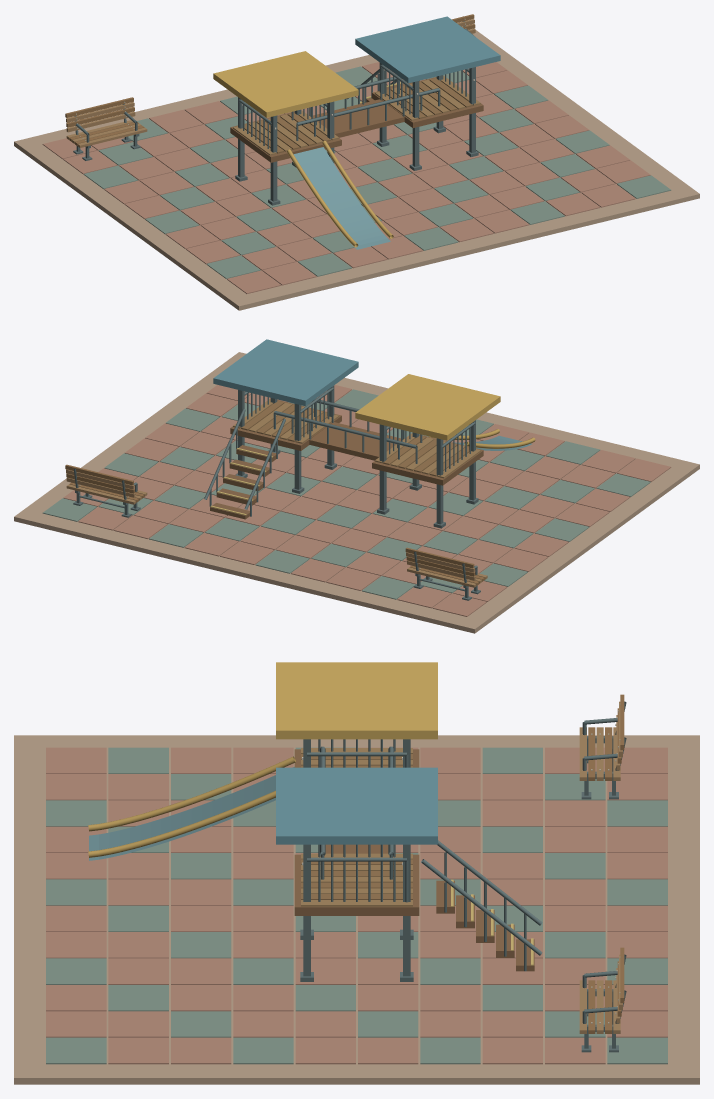
Rendered from play.glb.
The picture shows the model from 3 angles, top to bottom: view 1: azimuth 30°, elevation 25°; view 2: azimuth 150°, elevation 25°; view 3: azimuth 270°, elevation 25°; orthographic projection. The views are drawn at different scales.
Visible parts, largest first — view 1: korean-facade-parts-b38b78, korean-facade-parts-83978b, korean-facade-parts-b8a18a, korean-facade-parts-627475 (×2), korean-facade-parts-6b97a2, korean-facade-parts-d0ae60, 어린이 놀이 공간, korean-facade-parts-8b6b4c, korean-facade-parts-a2845c, korean-facade-parts-957651, korean-facade-parts-a68660, korean-facade-parts-c1a15c (+1 smaller); view 2: korean-facade-parts-b38b78, korean-facade-parts-83978b, korean-facade-parts-b8a18a, korean-facade-parts-627475 (×3), korean-facade-parts-6b97a2, korean-facade-parts-d0ae60, korean-facade-parts-8b6b4c, korean-facade-parts-a2845c, korean-facade-parts-a68660 (×2), korean-facade-parts-957651, korean-facade-parts-987650 (×2), korean-facade-parts-c1a15c; view 3: korean-facade-parts-b38b78, korean-facade-parts-83978b, korean-facade-parts-b8a18a, korean-facade-parts-d0ae60, korean-facade-parts-6b97a2, korean-facade-parts-627475 (×3), korean-facade-parts-8b6b4c, 어린이 놀이 공간, korean-facade-parts-a2845c, korean-facade-parts-c1a15c, korean-facade-parts-957651, korean-facade-parts-987650 (×2) (+1 smaller).
Part boxes in pixels (<box>): korean-facade-parts-b38b78: <box>42,62,650,293</box>; korean-facade-parts-83978b: <box>83,66,671,278</box>; korean-facade-parts-b8a18a: <box>14,30,699,310</box>; korean-facade-parts-627475 (×2): <box>73,62,478,205</box>; korean-facade-parts-6b97a2: <box>355,16,500,83</box>; korean-facade-parts-d0ae60: <box>213,51,358,117</box>; 어린이 놀이 공간: <box>293,147,390,249</box>; korean-facade-parts-8b6b4c: <box>230,77,483,162</box>; korean-facade-parts-a2845c: <box>233,76,480,155</box>; korean-facade-parts-957651: <box>244,78,472,153</box>; korean-facade-parts-a68660: <box>66,102,147,147</box>; korean-facade-parts-c1a15c: <box>287,141,393,247</box>; korean-facade-parts-b38b78: <box>63,385,671,616</box>; korean-facade-parts-83978b: <box>42,389,650,599</box>; korean-facade-parts-b8a18a: <box>14,352,699,633</box>; korean-facade-parts-627475 (×3): <box>73,385,480,600</box>; korean-facade-parts-6b97a2: <box>213,339,358,406</box>; korean-facade-parts-d0ae60: <box>355,374,500,440</box>; korean-facade-parts-8b6b4c: <box>210,400,483,519</box>; korean-facade-parts-a2845c: <box>233,399,480,478</box>; korean-facade-parts-a68660 (×2): <box>66,469,487,587</box>; korean-facade-parts-957651: <box>241,401,469,476</box>; korean-facade-parts-987650 (×2): <box>65,464,484,585</box>; korean-facade-parts-c1a15c: <box>429,429,535,448</box>; korean-facade-parts-b38b78: <box>46,747,667,1064</box>; korean-facade-parts-83978b: <box>46,747,667,1064</box>; korean-facade-parts-b8a18a: <box>14,735,699,1084</box>; korean-facade-parts-d0ae60: <box>276,662,437,739</box>; korean-facade-parts-6b97a2: <box>276,767,437,844</box>; korean-facade-parts-627475 (×3): <box>300,701,626,1052</box>; korean-facade-parts-8b6b4c: <box>294,749,534,971</box>; 어린이 놀이 공간: <box>89,767,294,860</box>; korean-facade-parts-a2845c: <box>301,748,412,906</box>; korean-facade-parts-c1a15c: <box>88,756,295,857</box>; korean-facade-parts-957651: <box>301,754,412,899</box>; korean-facade-parts-987650 (×2): <box>588,694,624,1033</box>.
Bounding box in the file's own units: 13 × 2.92 × 11.
